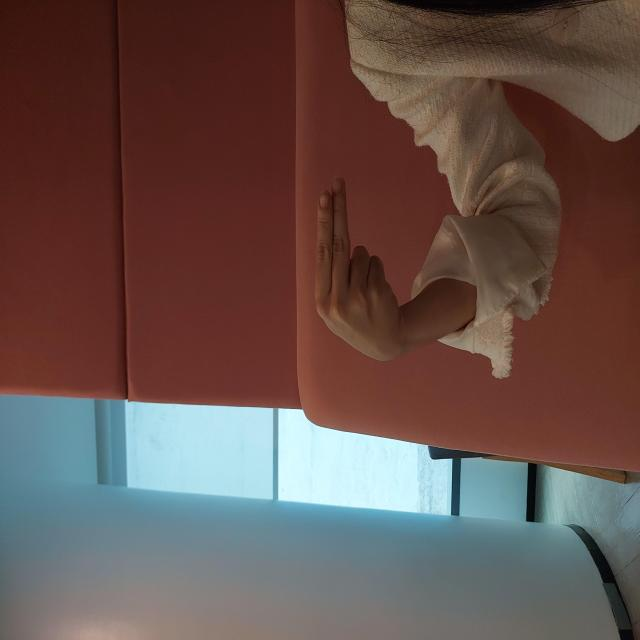H: (281, 314, 464, 400)
